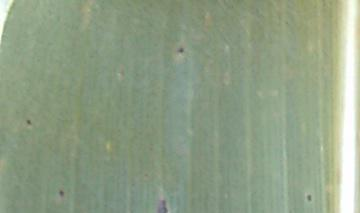tarspot: (153, 189, 170, 213), (304, 191, 314, 205), (176, 44, 186, 56), (24, 115, 32, 128), (58, 188, 64, 198)
